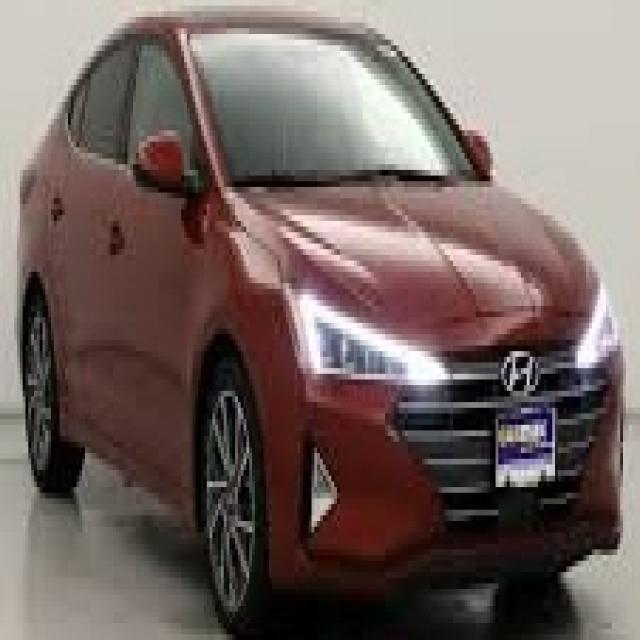maroon: (13, 10, 640, 612)
